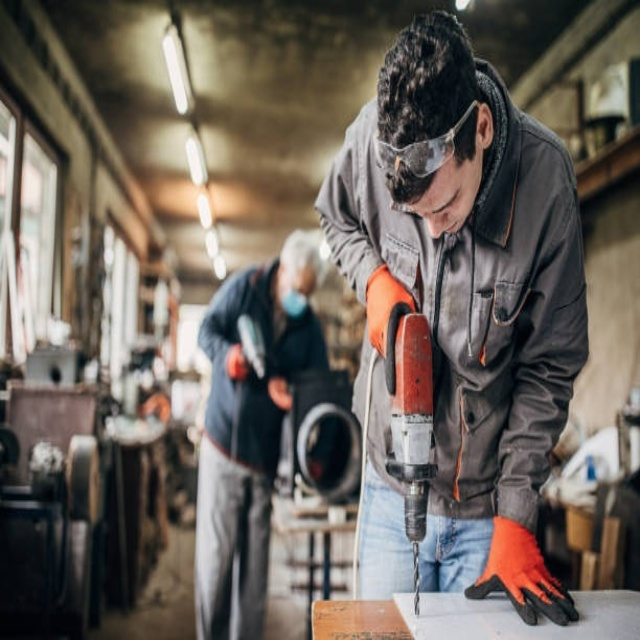Guantes: (461, 515, 577, 626), (365, 264, 419, 361), (227, 345, 251, 382)
Mascara: (280, 287, 308, 318)
Sin_gafas: (421, 188, 466, 224)
